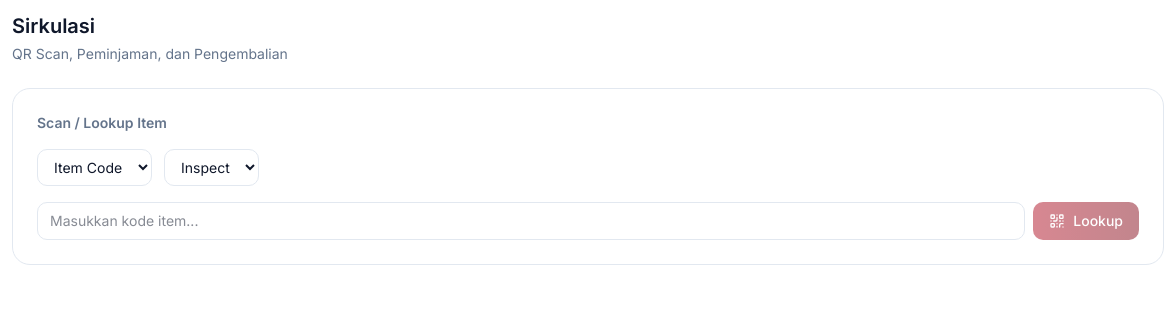
it: CirculationSection › shows Item result after successful lookup
In the field with placeholder "Masukkan kode item...": [531, 221] box [37,202,1025,240], type "ITEM-001"
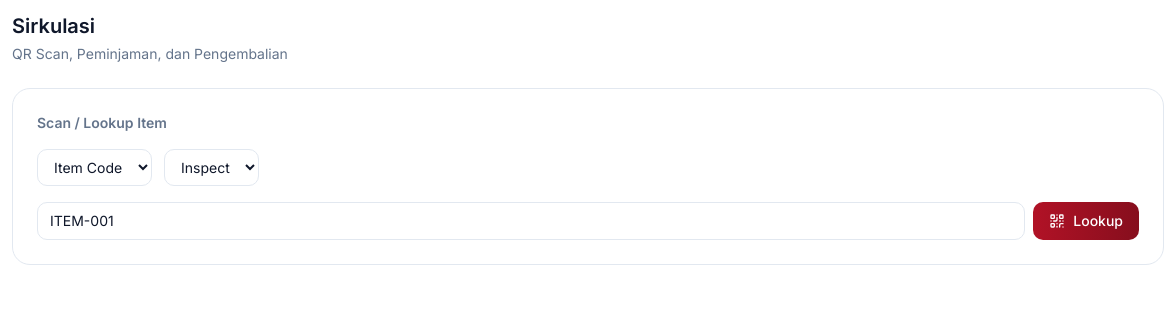
Click the button "Lookup": [1086, 221] box [1033,202,1139,240]
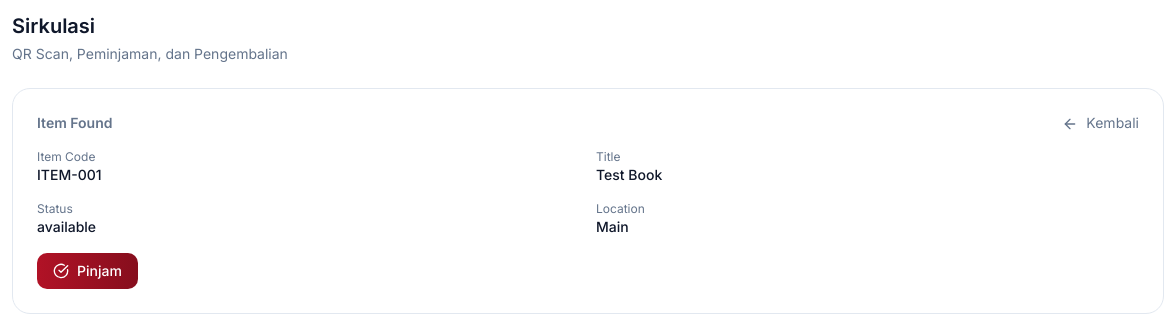
Result: the text "ITEM-001" is shown at [37,166,102,183]
Result: the text "Test Book" is shown at [596,166,662,183]
Result: the text "available" is shown at [37,218,96,235]
